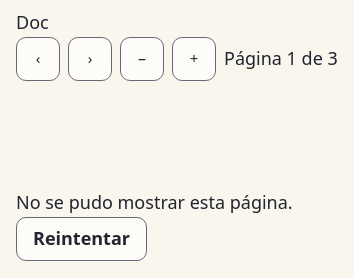
Test: page.render rejection shows an alert and does not escape
Expected: the message reads "No se pudo mostrar esta página.", top-left (16, 190), bottom-right (293, 214)
Expected: the text "Página 1 de 3" is shown, top-left (224, 45), bottom-right (338, 73)
Click the button "Reintentar" at (82, 239), box top-left (16, 217), bottom-right (147, 261)
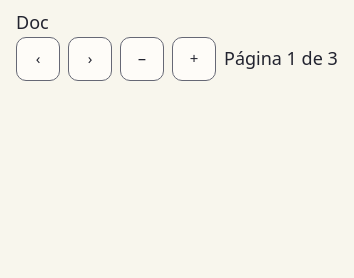
Now the message "No se pudo mostrar esta página." is gone
